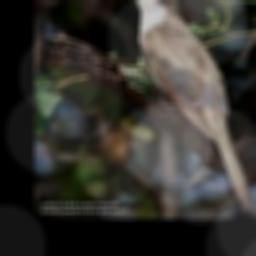Cuckoo: (112, 0, 256, 211)
